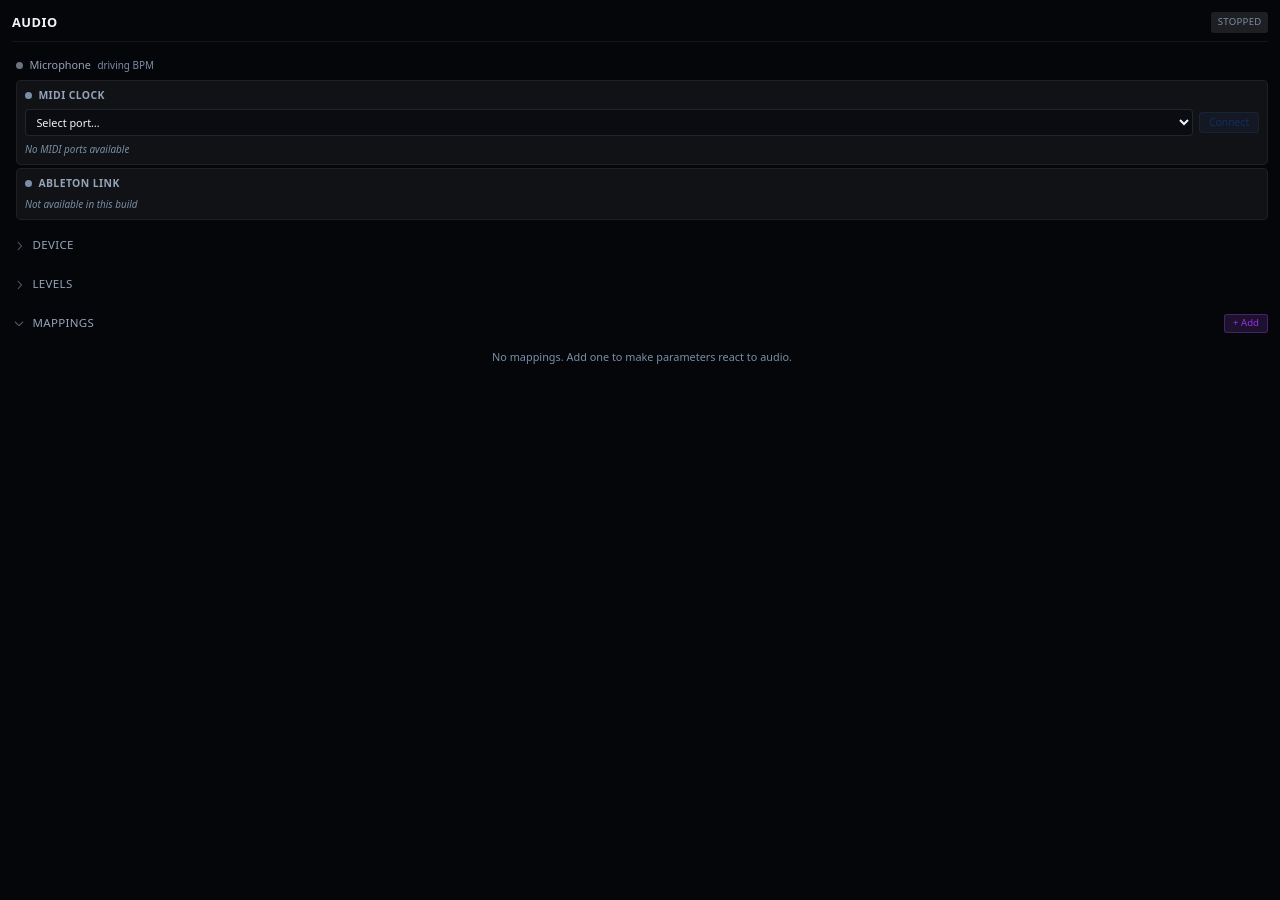
Test case: AudioPanel › add mapping form › shows form when Add button clicked
The image size is (1280, 900).
What coordinates should you click on to do the following:
click the button with aria-label "Add mapping"
I would click on:
 (1246, 323)
Its box is [1224, 314, 1268, 333].
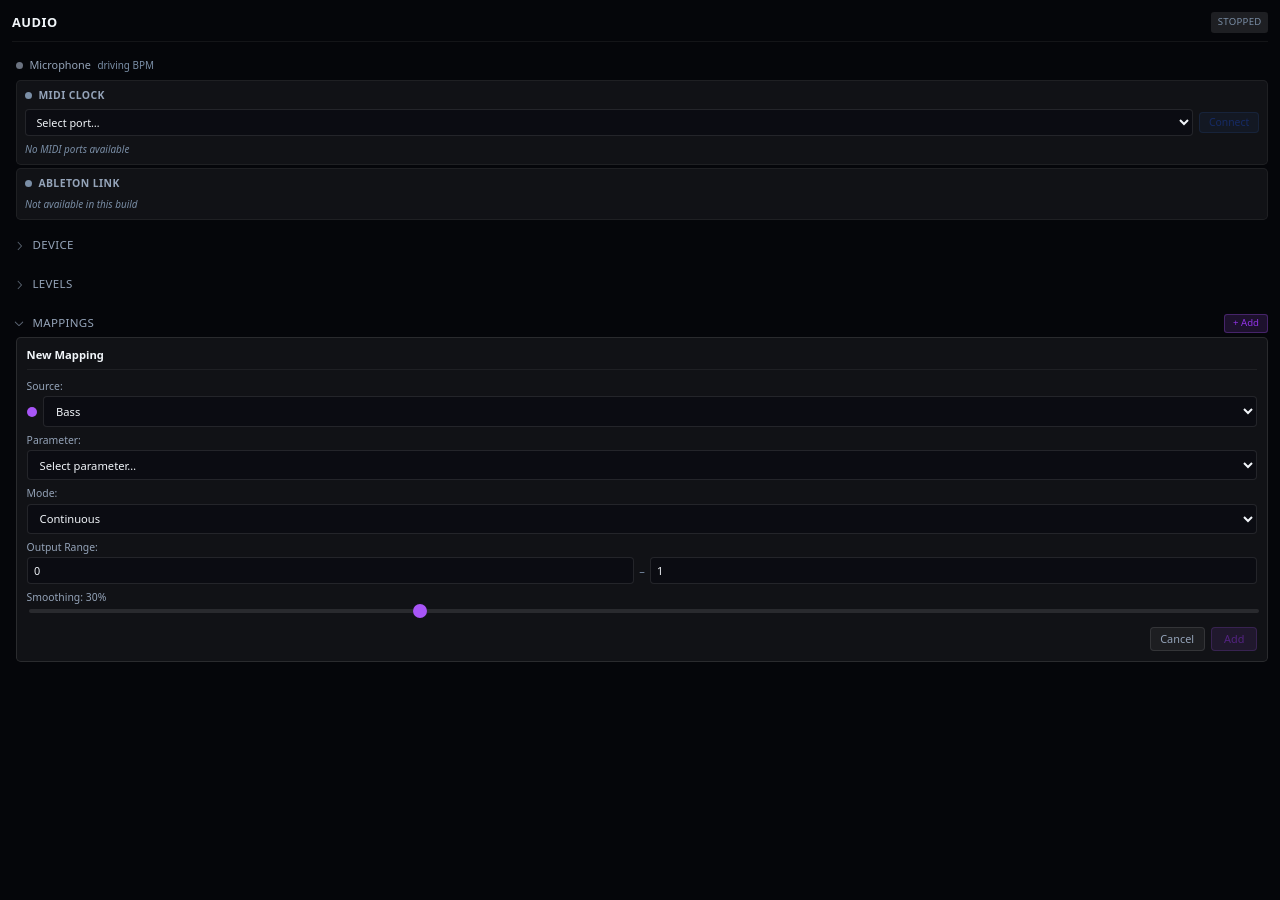
Expected: the text "New Mapping" is shown, [27, 347, 1257, 370]
